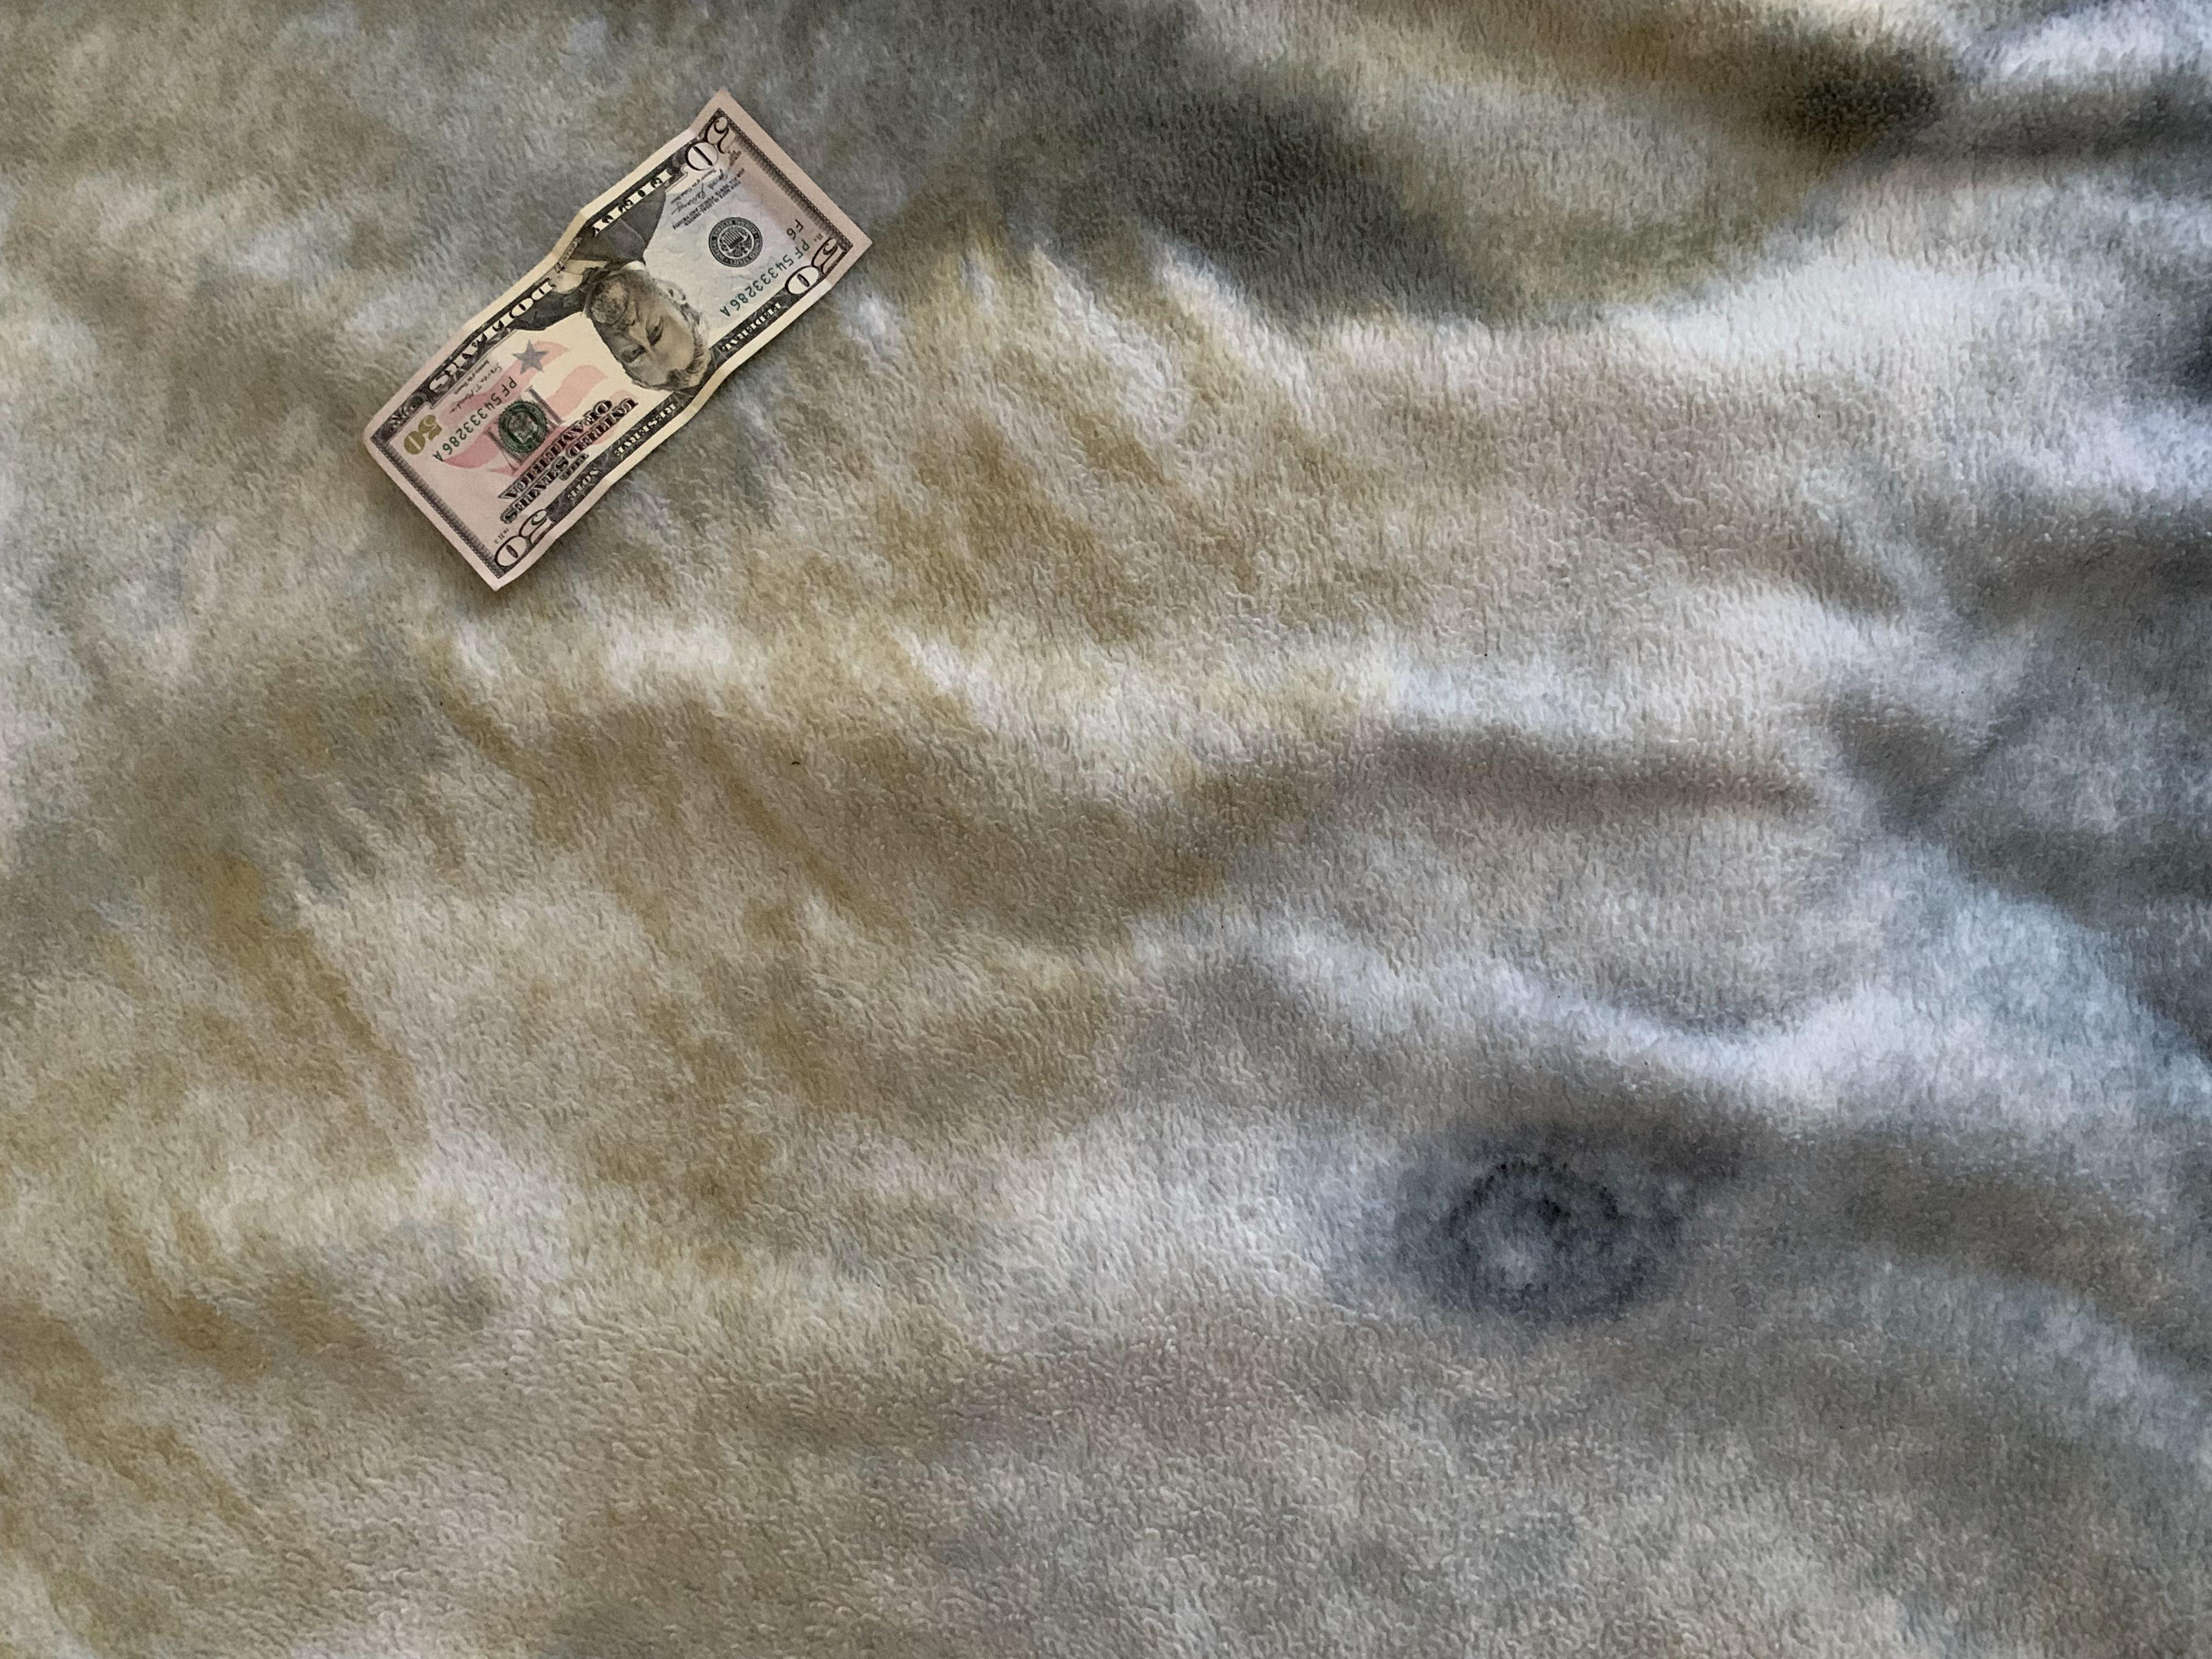FiftyBill: (348, 82, 873, 601)
